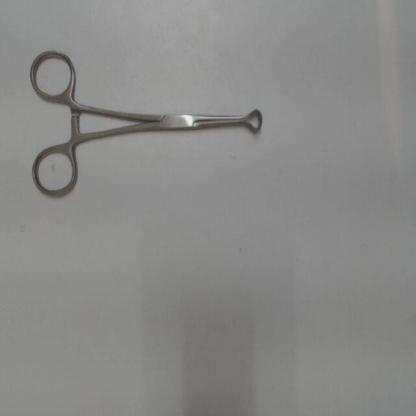Babcock Tissue Forceps: (26, 44, 265, 202)
